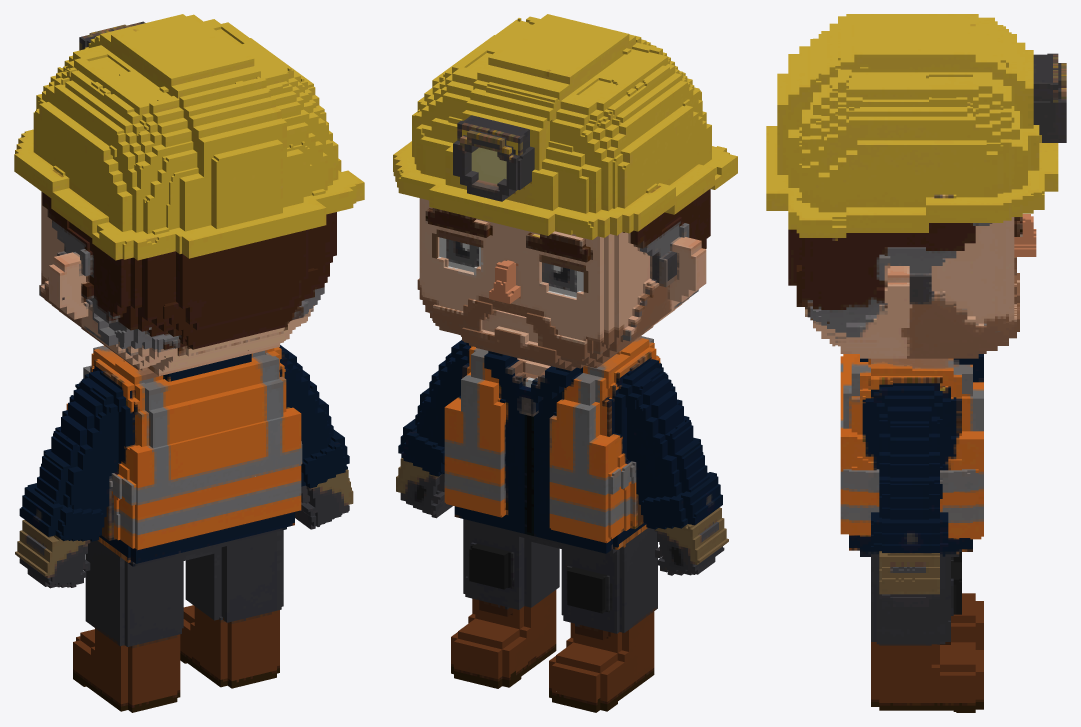
File: char_01_cuntou.glb
3 views of the same model, side by side, from view 1: azimuth 30°, elevation 25°; view 2: azimuth 150°, elevation 25°; view 3: azimuth 270°, elevation 25° (orthographic). The views are drawn at different scales.
Visible parts, largest first — view 1: voxel_character; view 2: voxel_character; view 3: voxel_character.
Boxes of the visible parts, x1,y1,x2,y2 form: voxel_character: (14, 14, 364, 712); voxel_character: (393, 14, 737, 712); voxel_character: (766, 14, 1066, 712).
Size of the model in its own units: 1.12 by 2.2 by 0.9367.
